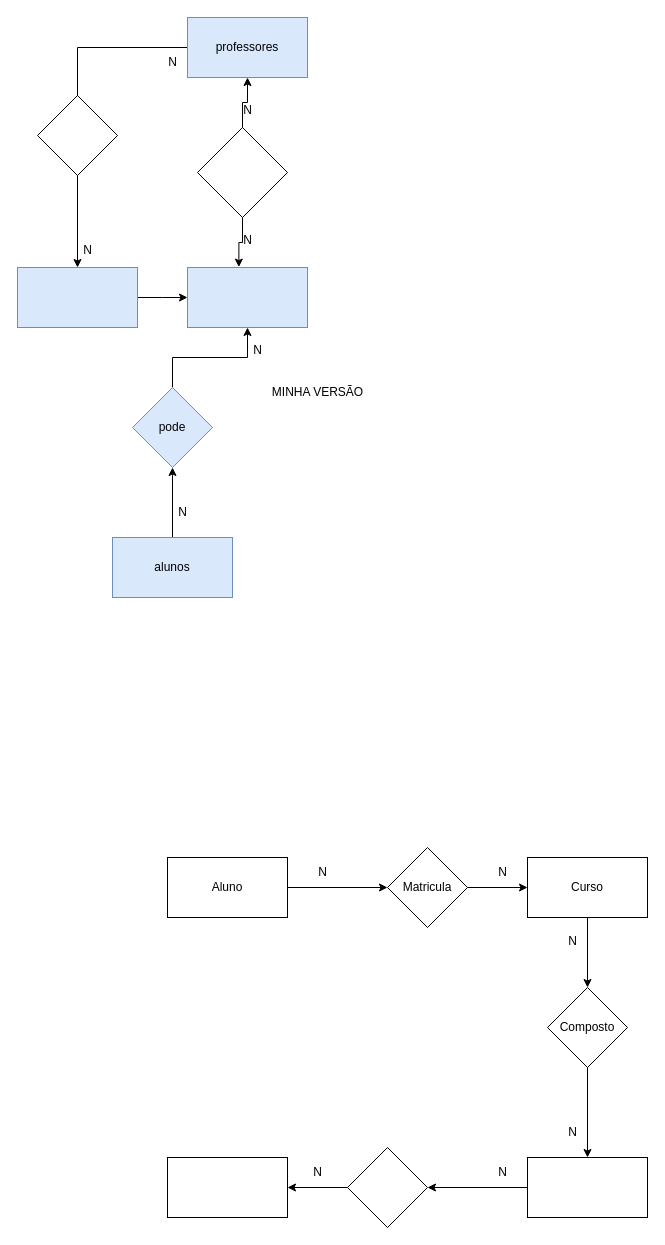
Some shapes in this 665 by 1245 pixel diagram are drawn without their labels. Here are the shapes that lost their labels. From the top down, the centre of each, then its label:
point (77, 135): pode ser ministrada
point (242, 172): pode ministrar ser ministrado
point (77, 297): diciplinas
point (247, 297): cursos
